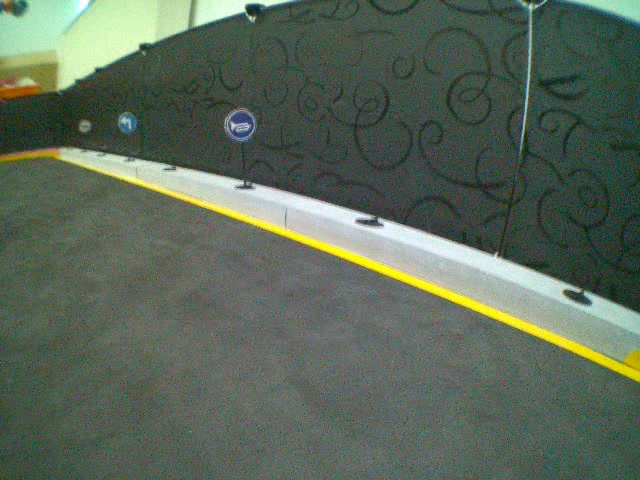Check: (75, 116, 96, 134)
horn: (221, 106, 264, 143)
turn: (113, 112, 146, 139)
